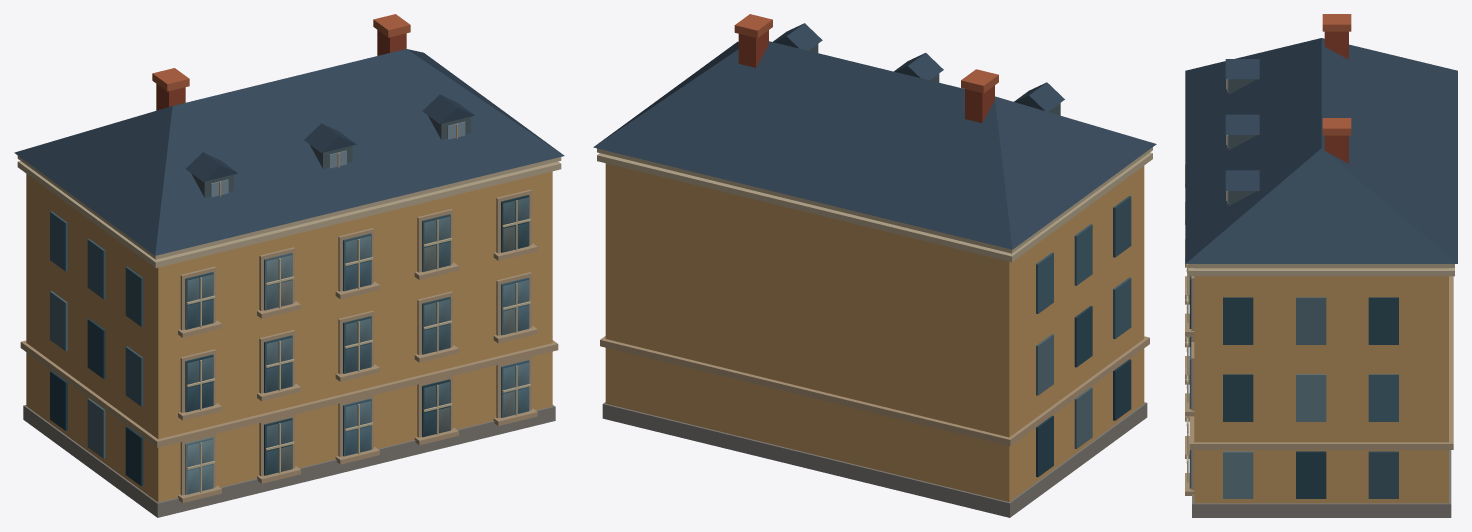
The model's file is ochre-tenement.glb.
3 renders of one model, left to right at view 1: azimuth 30°, elevation 25°; view 2: azimuth 150°, elevation 25°; view 3: azimuth 270°, elevation 25°, orthographic. The views are drawn at different scales.
Visible parts, largest first — view 1: ochre-tenement; view 2: ochre-tenement; view 3: ochre-tenement.
Part boxes in pixels (box(x1,y1,x2,y2)): ochre-tenement: box(14, 14, 564, 517); ochre-tenement: box(593, 14, 1156, 517); ochre-tenement: box(1185, 14, 1457, 517).
Size of the model in its own units: 15.06 by 12.83 by 8.99.
